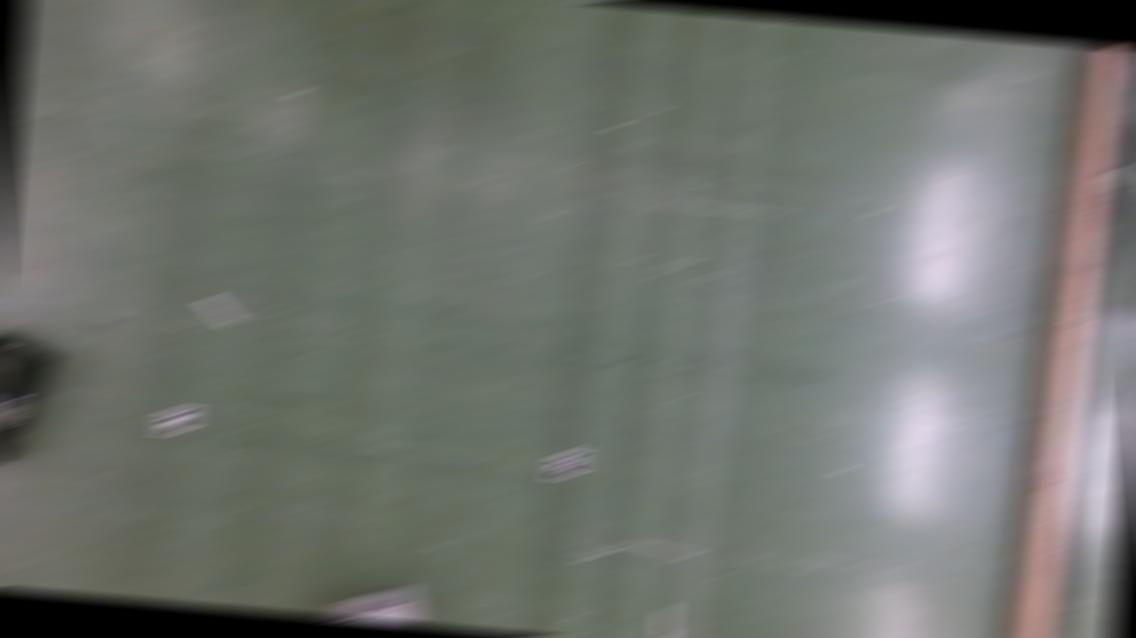probes: (197, 296, 244, 324), (653, 604, 677, 636)
rako: (0, 328, 58, 478), (310, 580, 434, 626)
